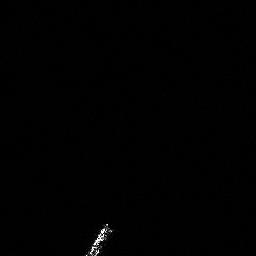ship: (81, 218, 117, 256)
